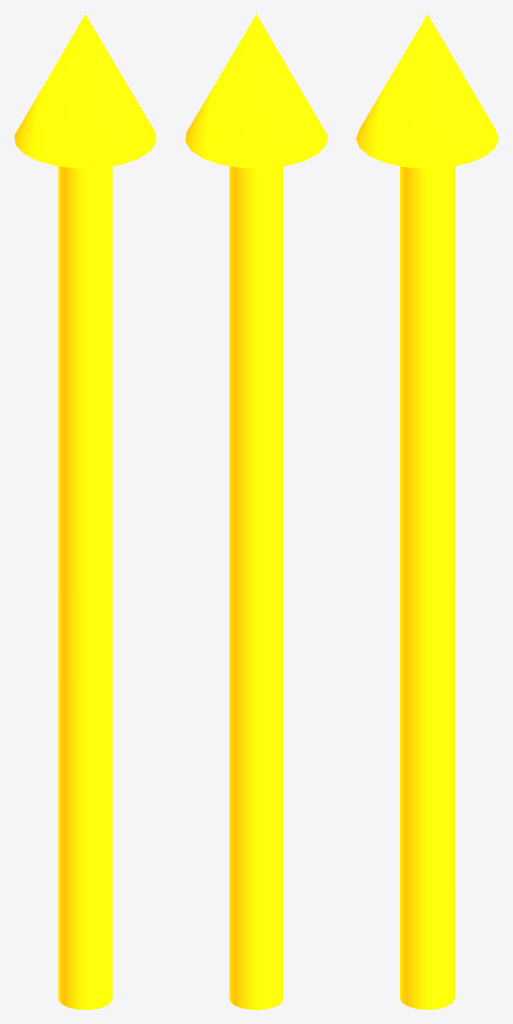
File: shaft_alignment_system_flow.glb
The picture shows the model from 3 angles, left to right: view 1: azimuth 30°, elevation 25°; view 2: azimuth 150°, elevation 25°; view 3: azimuth 270°, elevation 25°; orthographic projection.
Visible parts, largest first — view 1: readings; view 2: readings; view 3: readings.
Part boxes in pixels (box(x1,y1,x2,y2)): readings: box(14, 14, 156, 1009); readings: box(185, 14, 327, 1009); readings: box(356, 14, 498, 1009).
Size of the model in its own units: 0.0208 by 0.158 by 0.0208.
